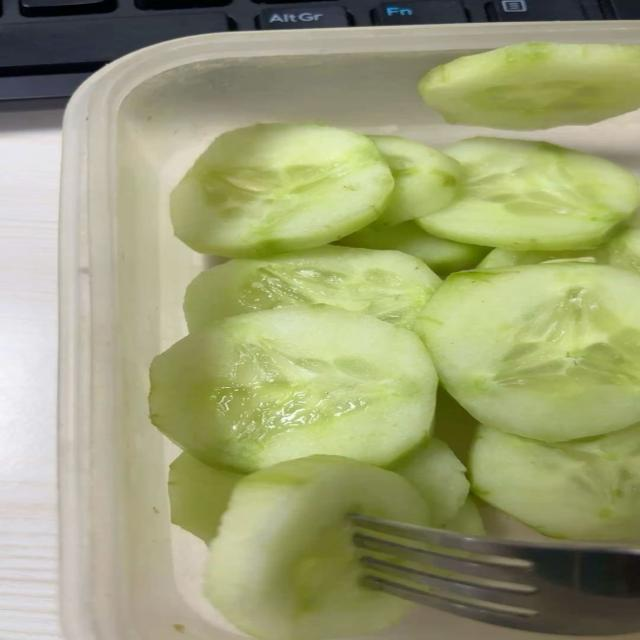cucumber sliced: (150, 306, 437, 471), (206, 456, 427, 639), (421, 262, 639, 441), (171, 124, 393, 257), (417, 138, 639, 251), (185, 246, 440, 331), (419, 42, 639, 130), (470, 426, 639, 540), (338, 221, 488, 276), (370, 136, 461, 225), (392, 439, 469, 526), (168, 453, 242, 543), (434, 386, 478, 464), (478, 249, 606, 269), (445, 497, 486, 535), (606, 229, 639, 274)
